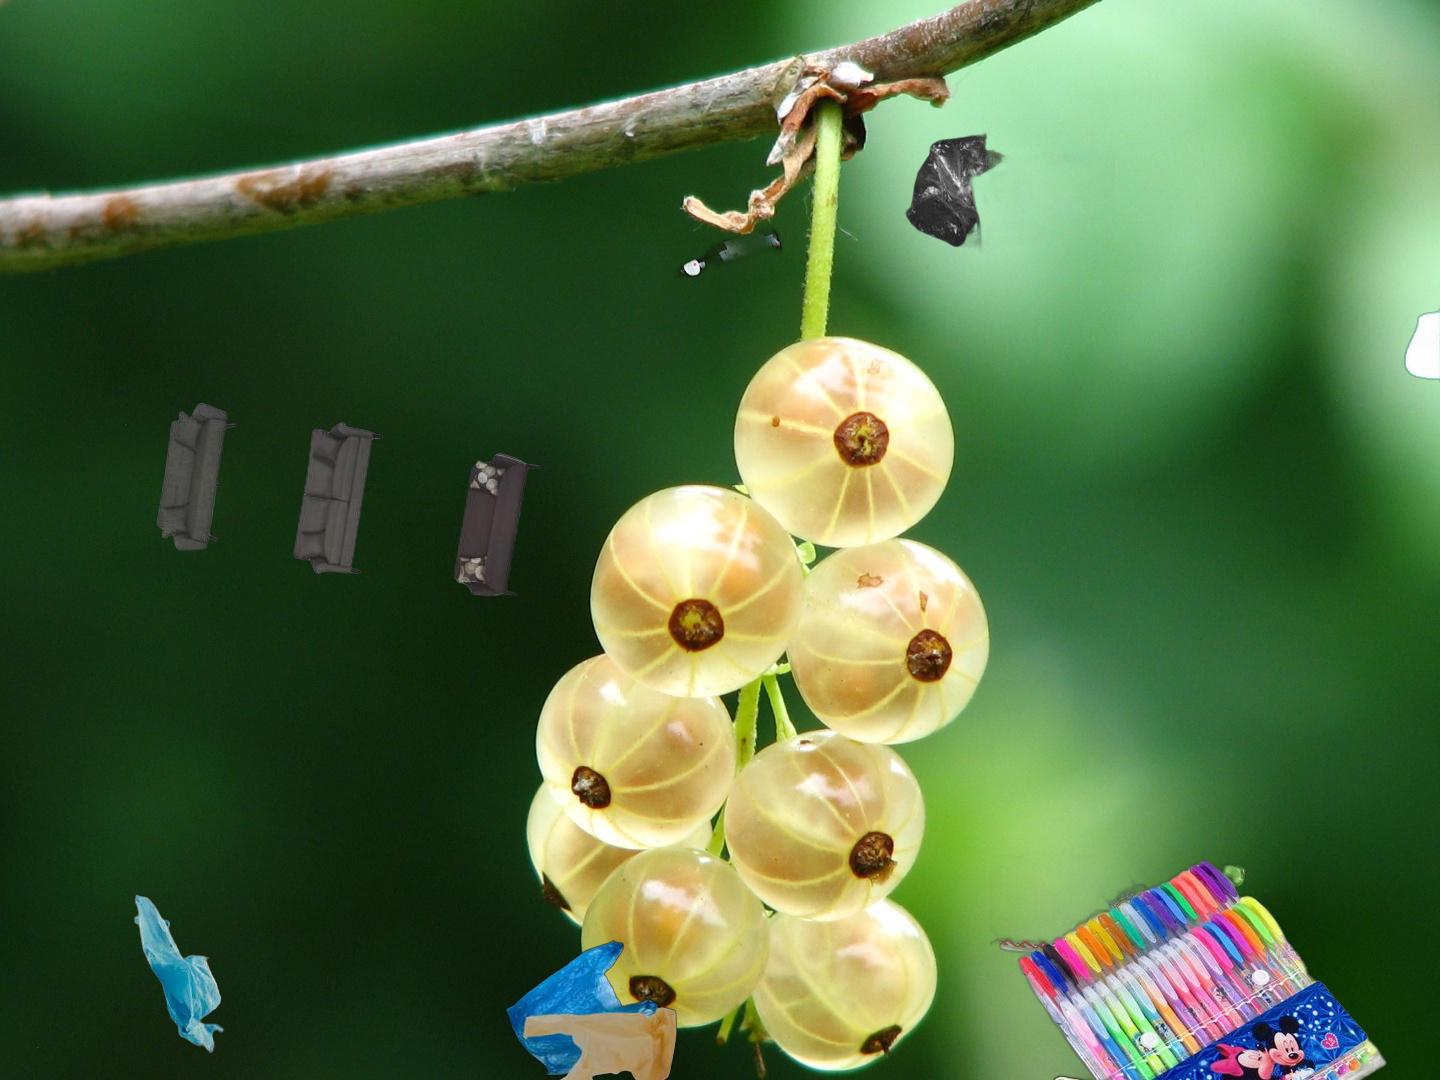glass: (615, 223, 787, 653)
paper: (152, 399, 545, 600)
paper-bag: (914, 1064, 1214, 1080)
penholder: (990, 839, 1390, 1080)
plastic-bag: (857, 123, 1115, 281), (503, 937, 678, 1080), (132, 891, 229, 1056)
trash: (1401, 305, 1440, 385)
